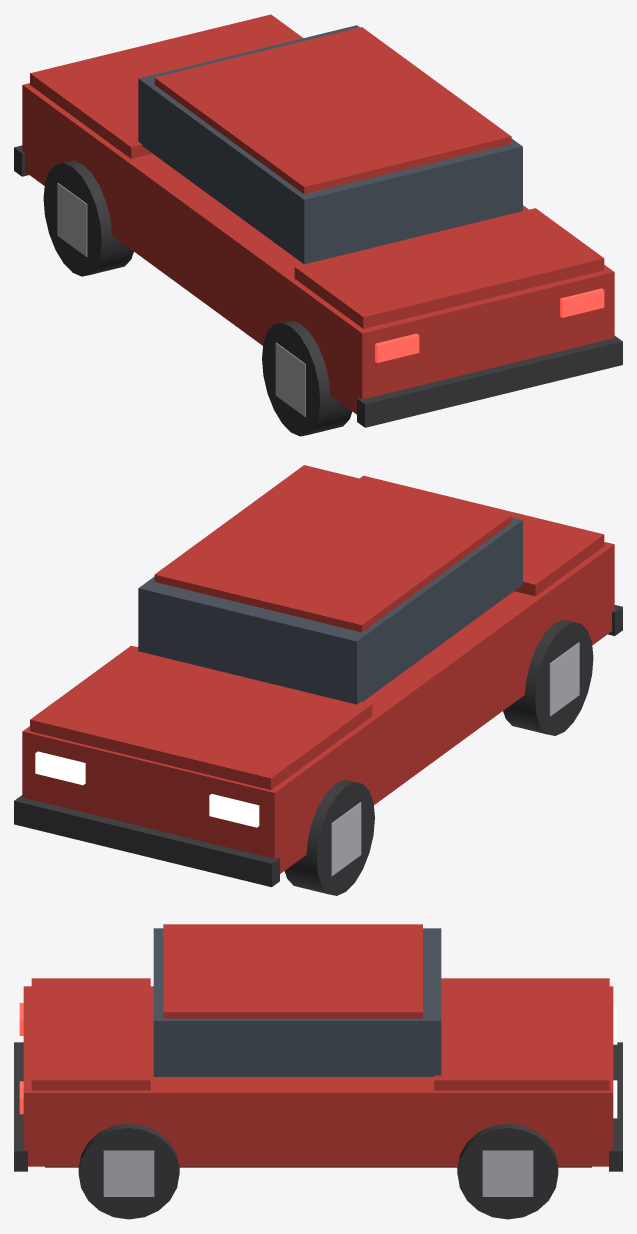
The model's file is car_red.gltf.
3 renders of one model, top to bottom at view 1: azimuth 30°, elevation 25°; view 2: azimuth 150°, elevation 25°; view 3: azimuth 270°, elevation 25°, orthographic. The views are drawn at different scales.
Visible parts, largest first — view 1: Body, Roof, Cabin, Trim, Wheel0, Wheel2, Taillights, Hub0, Hub2; view 2: Body, Roof, Cabin, Trim, Wheel0, Wheel2, Headlights, Hub0, Hub2; view 3: Body, Roof, Cabin, Wheel1, Wheel3, Trim, Hub1, Hub3.
Boxes of the visible parts, left/top/right/bottom form: Body: left=22, top=14, right=614, bottom=414; Roof: left=154, top=27, right=511, bottom=194; Cabin: left=138, top=25, right=522, bottom=264; Trim: left=14, top=145, right=622, bottom=427; Wheel0: left=43, top=160, right=133, bottom=276; Wheel2: left=262, top=320, right=352, bottom=436; Taillights: left=375, top=288, right=604, bottom=362; Hub0: left=57, top=183, right=87, bottom=256; Hub2: left=275, top=342, right=305, bottom=416; Body: left=22, top=475, right=614, bottom=873; Roof: left=154, top=465, right=511, bottom=632; Cabin: left=138, top=517, right=522, bottom=704; Trim: left=14, top=605, right=622, bottom=887; Wheel0: left=284, top=780, right=374, bottom=895; Wheel2: left=503, top=620, right=593, bottom=735; Headlights: left=35, top=751, right=259, bottom=827; Hub0: left=331, top=802, right=361, bottom=876; Hub2: left=549, top=642, right=579, bottom=716; Body: left=23, top=978, right=613, bottom=1166; Roof: left=163, top=924, right=422, bottom=1018; Cabin: left=153, top=928, right=441, bottom=1076; Wheel1: left=457, top=1123, right=558, bottom=1219; Wheel3: left=78, top=1123, right=179, bottom=1219; Trim: left=14, top=1042, right=622, bottom=1171; Hub1: left=482, top=1150, right=533, bottom=1196; Hub3: left=103, top=1150, right=154, bottom=1196.
Bounding box in the file's own units: 1.96 × 1.52 × 4.34.
